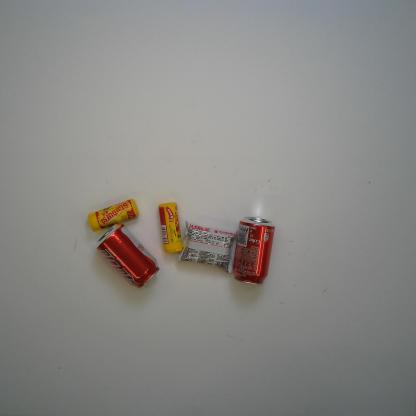Candy: (87, 198, 140, 234), (158, 202, 186, 254)
Dessert: (176, 219, 239, 274)
Drink: (95, 222, 161, 288), (232, 216, 276, 285)
